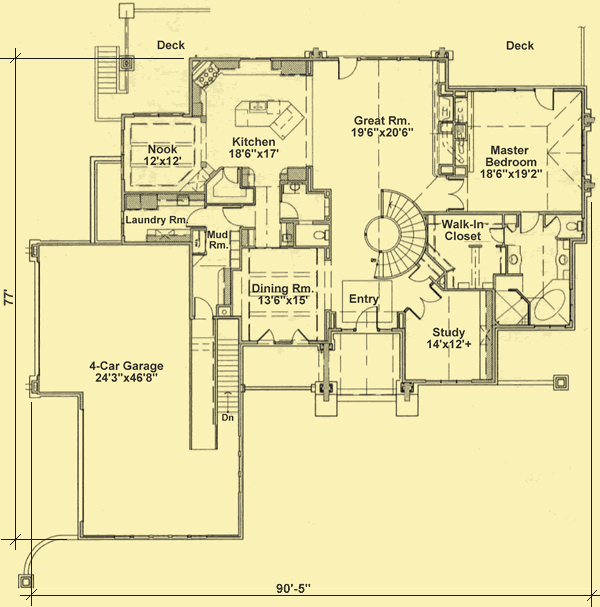door: (410, 287, 443, 321), (333, 53, 363, 84), (354, 304, 383, 336), (443, 178, 470, 209), (275, 198, 301, 225), (535, 85, 558, 114), (222, 202, 247, 228), (192, 295, 215, 320), (515, 212, 538, 236), (288, 327, 312, 348), (186, 205, 207, 228), (256, 326, 277, 347), (547, 214, 565, 237), (222, 164, 241, 185), (483, 226, 502, 245)
kitchen bar: (229, 93, 304, 140)
large sink: (561, 217, 585, 233), (310, 226, 331, 243)
small sink: (506, 247, 524, 276), (556, 241, 568, 284), (279, 181, 308, 196)
stairs: (362, 186, 432, 281), (213, 318, 243, 428), (91, 39, 121, 97)
tub: (534, 287, 567, 323)
